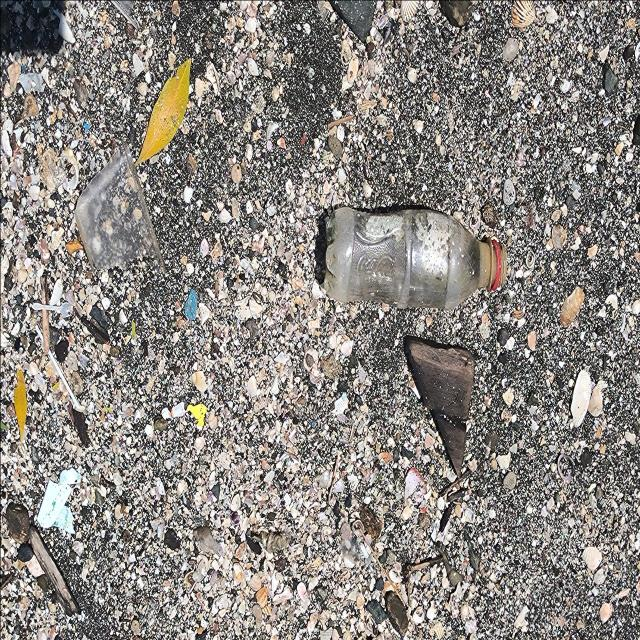plastic_waste: (324, 207, 508, 313), (35, 324, 80, 410)
wood_waste: (407, 339, 475, 480), (30, 526, 82, 618)
